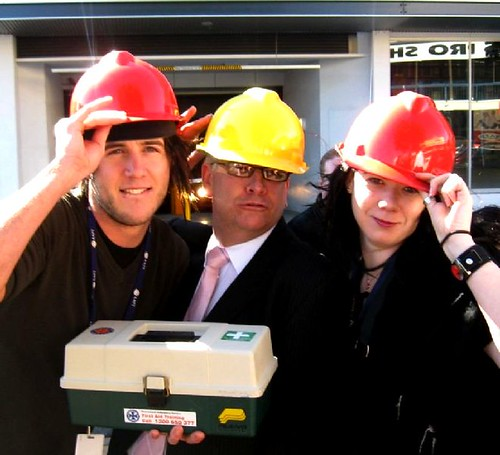person hardhat: (307, 69, 500, 455), (15, 50, 198, 448), (187, 79, 324, 446)
